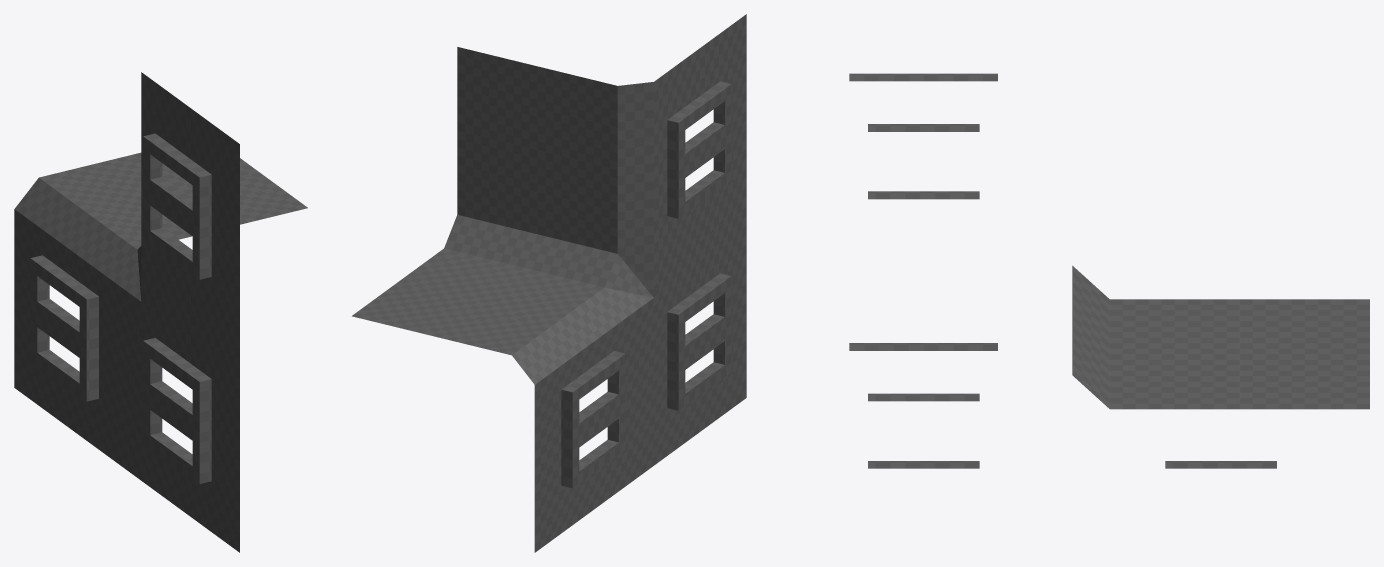
3 renders of one model, left to right at view 1: azimuth 30°, elevation 25°; view 2: azimuth 150°, elevation 25°; view 3: azimuth 270°, elevation 25°, orthographic. The views are drawn at different scales.
Visible parts, largest first — view 1: CubeUpBackLeftV3; view 2: CubeUpBackLeftV3; view 3: CubeUpBackLeftV3.
Boxes of the visible parts, box(x1,y1,x2,y2) form: CubeUpBackLeftV3: box(14, 72, 307, 552); CubeUpBackLeftV3: box(352, 14, 746, 552); CubeUpBackLeftV3: box(849, 73, 1369, 468).
Bounding box in the file's own units: 2.12 × 4 × 4.
Materials: 1 (1 with a texture image).
